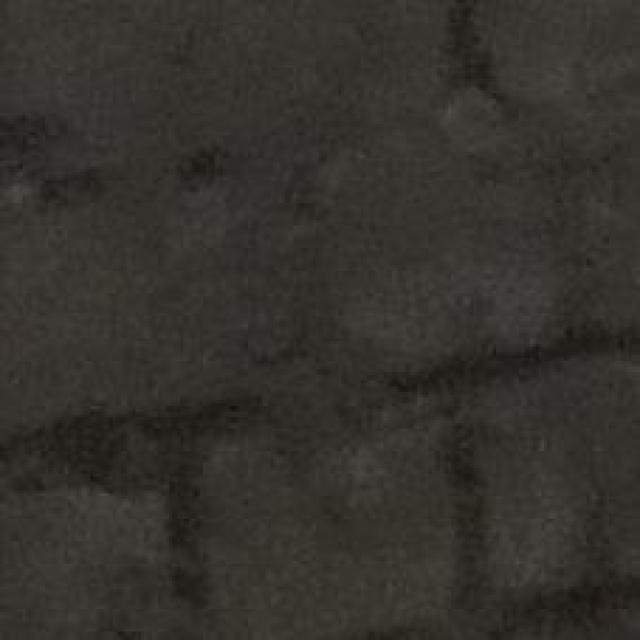Crack: (0, 305, 640, 640), (310, 0, 640, 135)
